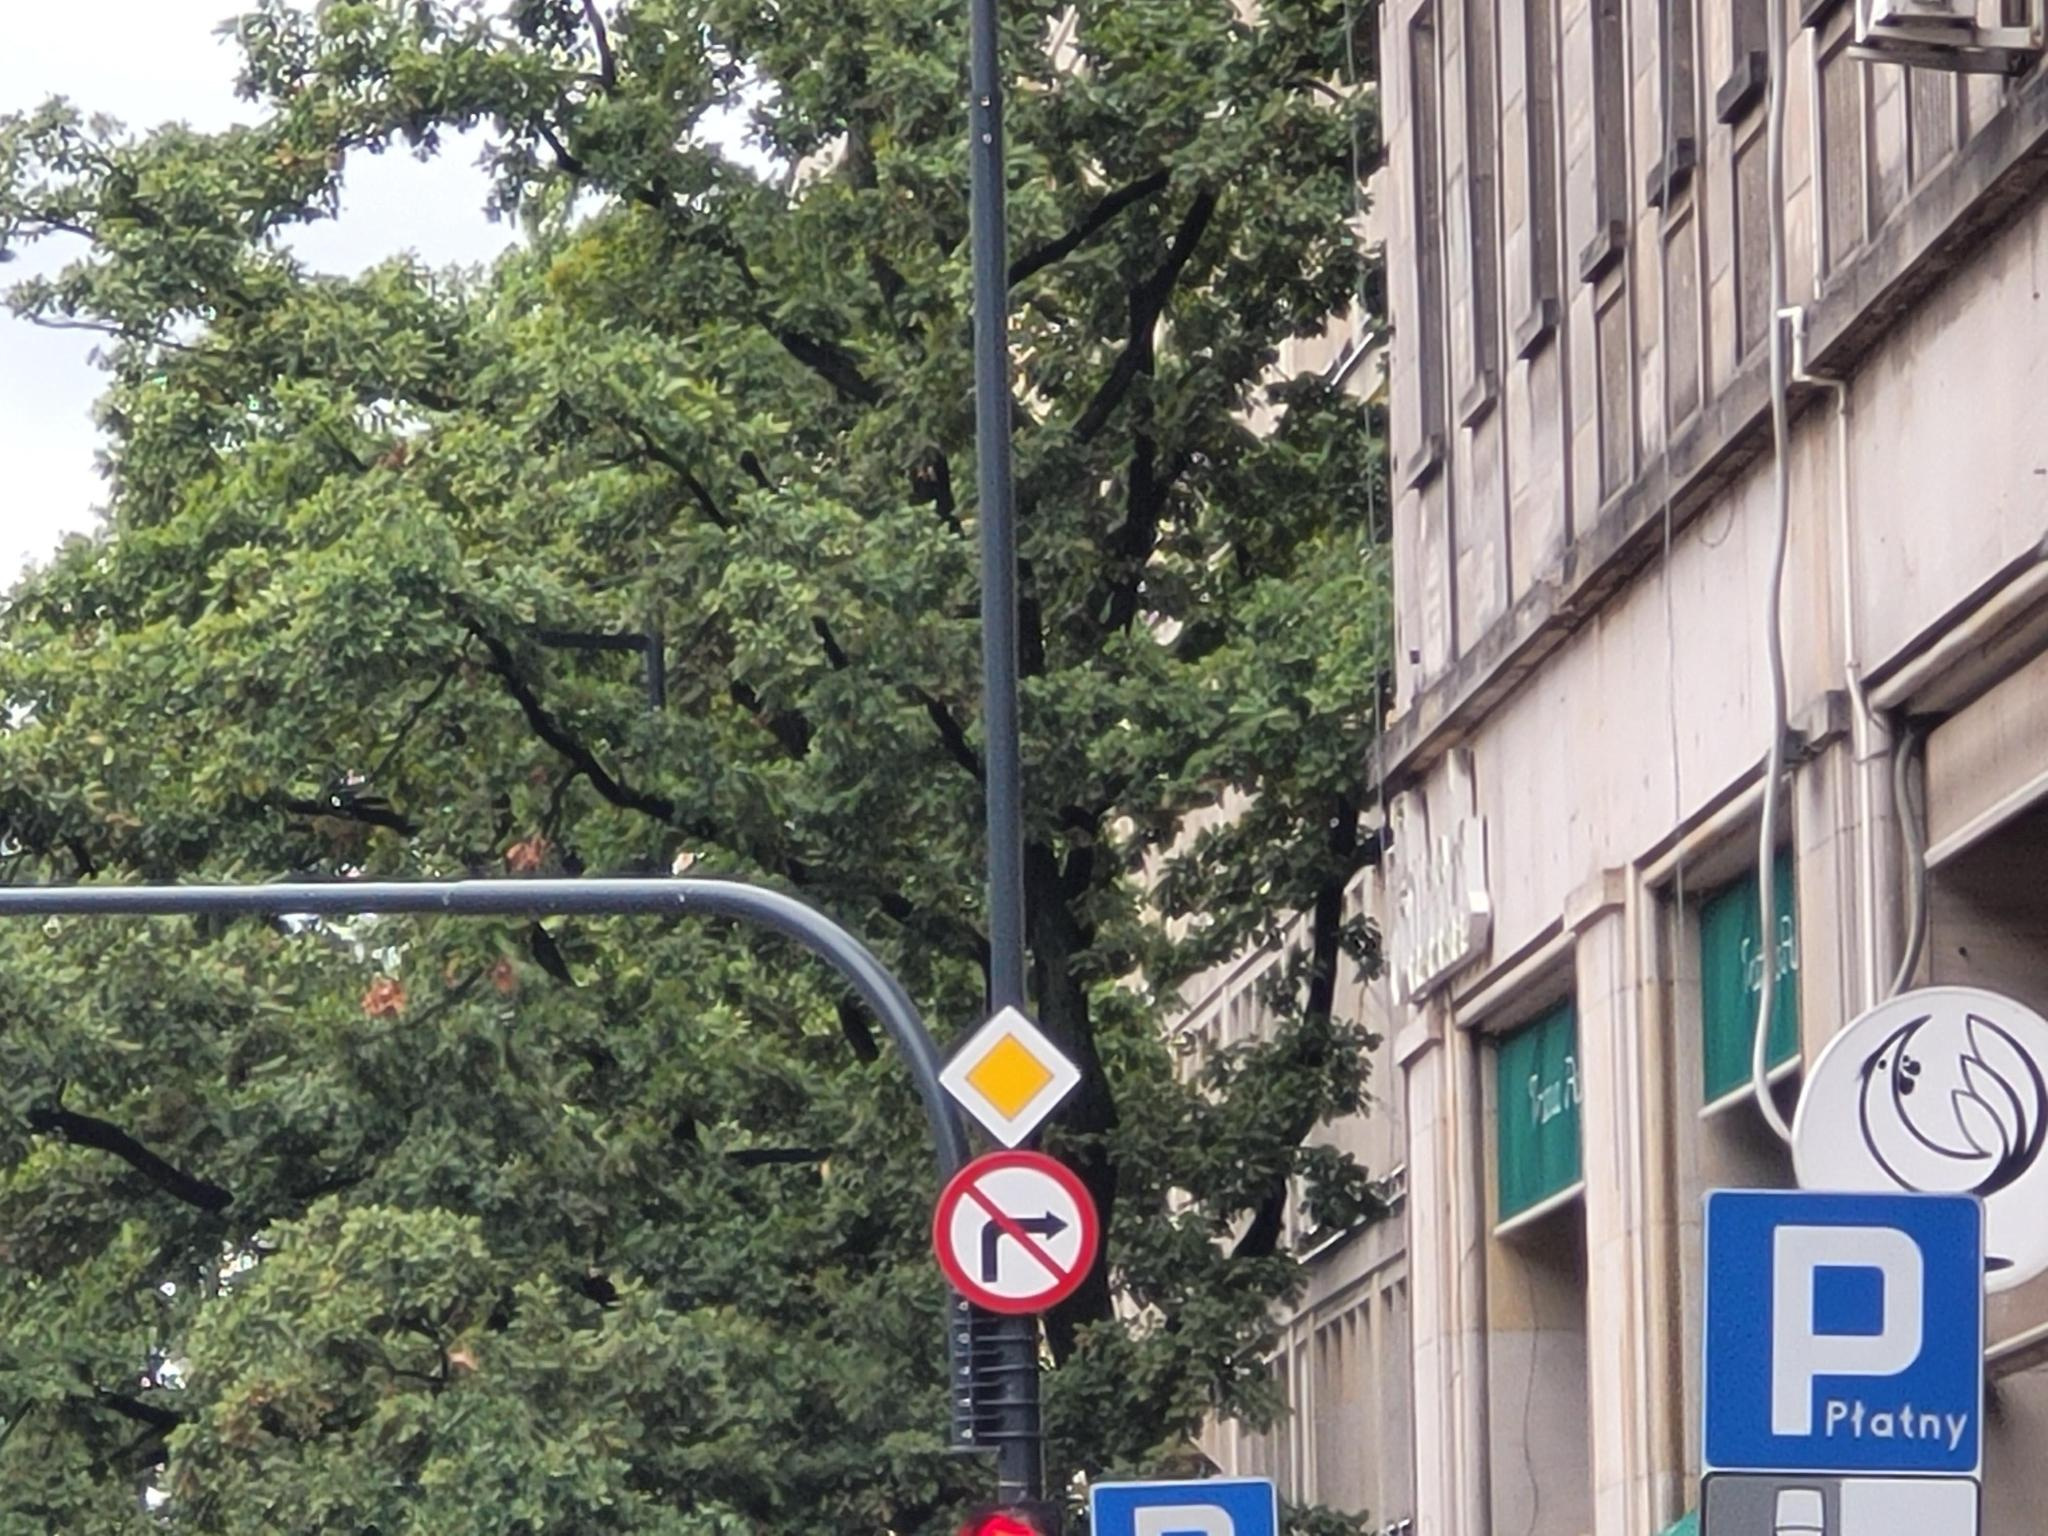information: (1703, 1189, 1987, 1476), (935, 1002, 1085, 1149)
other: (1703, 1476, 1980, 1536), (1090, 1476, 1277, 1536)
prohibitory: (932, 1150, 1098, 1317)
